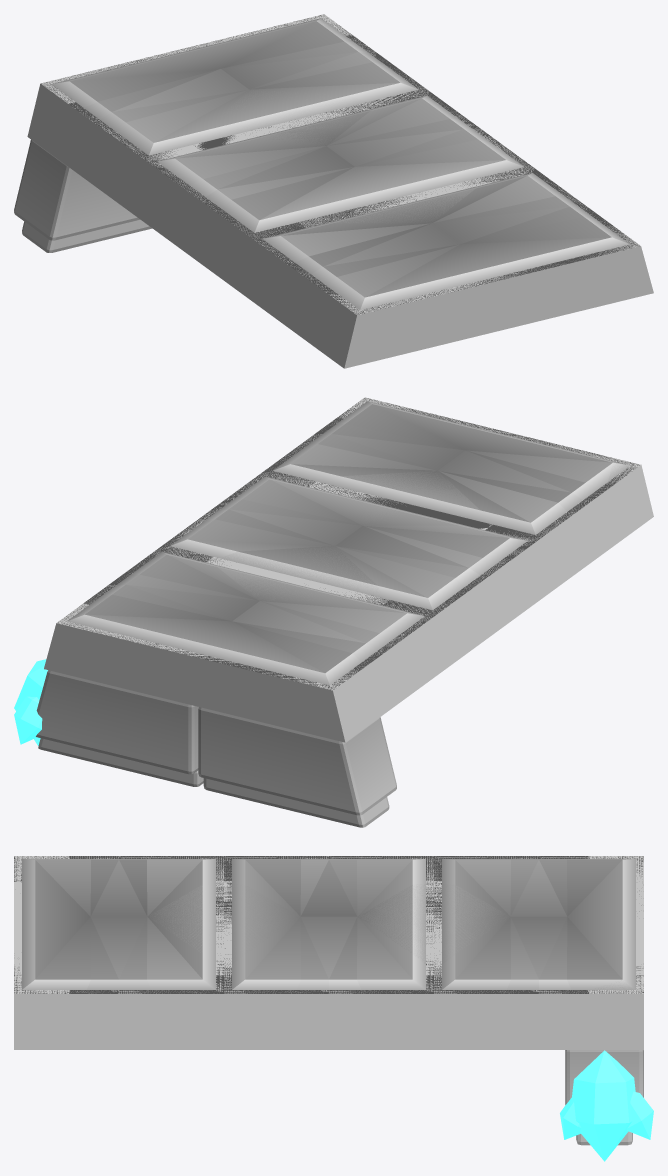
Rendered from tunnel_kit.glb.
3 views of the same model, one above another, from view 1: azimuth 30°, elevation 25°; view 2: azimuth 150°, elevation 25°; view 3: azimuth 270°, elevation 25° (orthographic). The views are drawn at different scales.
Parts seen in each view (by area): view 1: tile_crystal, tile_arch, rib_ring, tile_crystal_arch, tile_stone; view 2: tile_crystal, rib_ring, tile_arch, tile_crystal_arch, tile_stone; view 3: tile_crystal, tile_arch, tile_crystal_arch, rib_ring, tile_stone.
Part boxes in pixels (bbox=[...]): tile_crystal: bbox=[28, 14, 639, 366]; tile_arch: bbox=[27, 14, 653, 368]; rib_ring: bbox=[14, 140, 152, 252]; tile_crystal_arch: bbox=[41, 15, 637, 314]; tile_stone: bbox=[43, 16, 637, 313]; tile_crystal: bbox=[58, 398, 653, 741]; rib_ring: bbox=[14, 659, 396, 827]; tile_arch: bbox=[44, 397, 653, 742]; tile_crystal_arch: bbox=[66, 400, 633, 689]; tile_stone: bbox=[58, 399, 638, 689]; tile_crystal: bbox=[14, 856, 643, 1049]; tile_arch: bbox=[14, 856, 643, 1049]; tile_crystal_arch: bbox=[14, 856, 643, 993]; rib_ring: bbox=[560, 1050, 653, 1161]; tile_stone: bbox=[14, 856, 643, 993].
Size of the model in its own units: 2.69 by 1.1 by 4.06.
